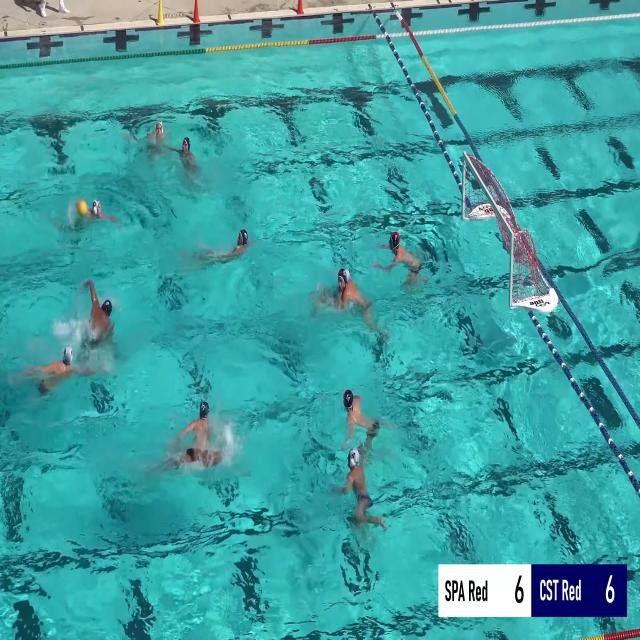ball: (78, 200, 88, 217)
